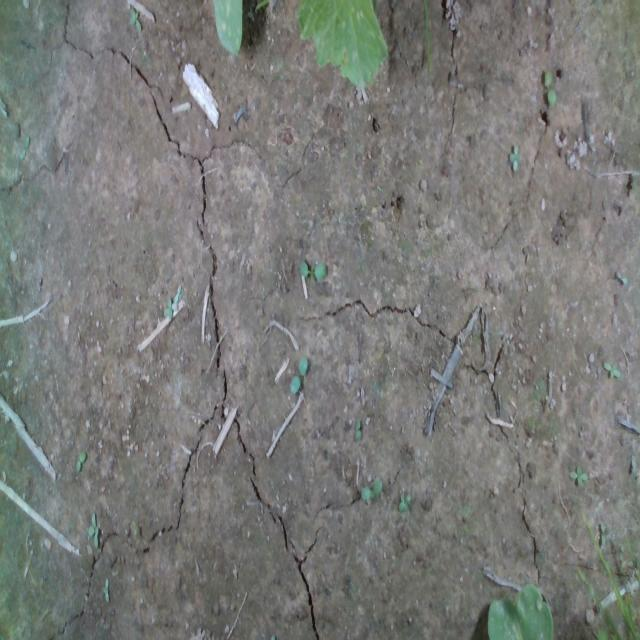weed: (289, 356, 307, 394), (298, 259, 326, 281), (543, 68, 556, 108), (86, 511, 99, 549), (360, 478, 382, 500), (569, 463, 589, 486), (507, 142, 519, 174), (603, 360, 620, 380), (396, 491, 412, 512), (74, 450, 86, 472), (598, 520, 606, 548), (102, 578, 109, 602), (355, 416, 361, 441)
